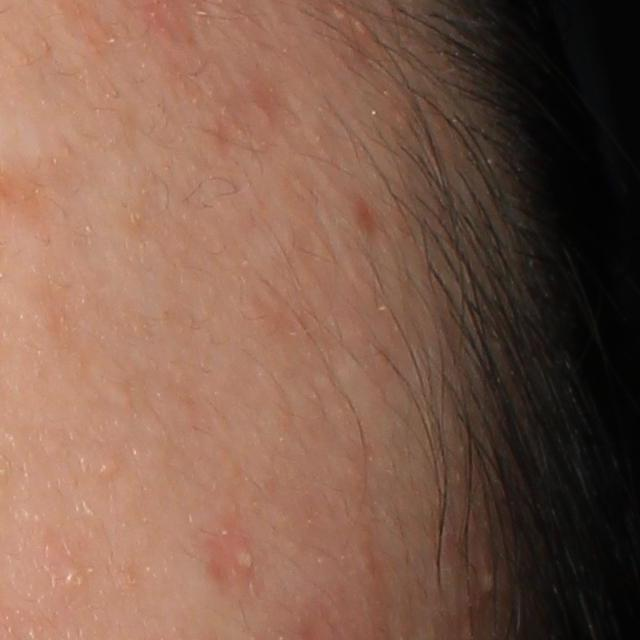comedo: (55, 568, 89, 595)
pustule: (212, 529, 265, 586)
